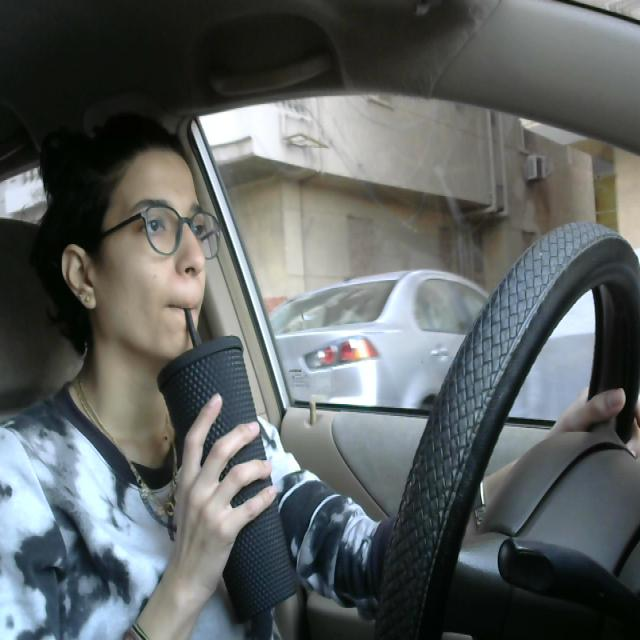drinking: (155, 306, 320, 630)
